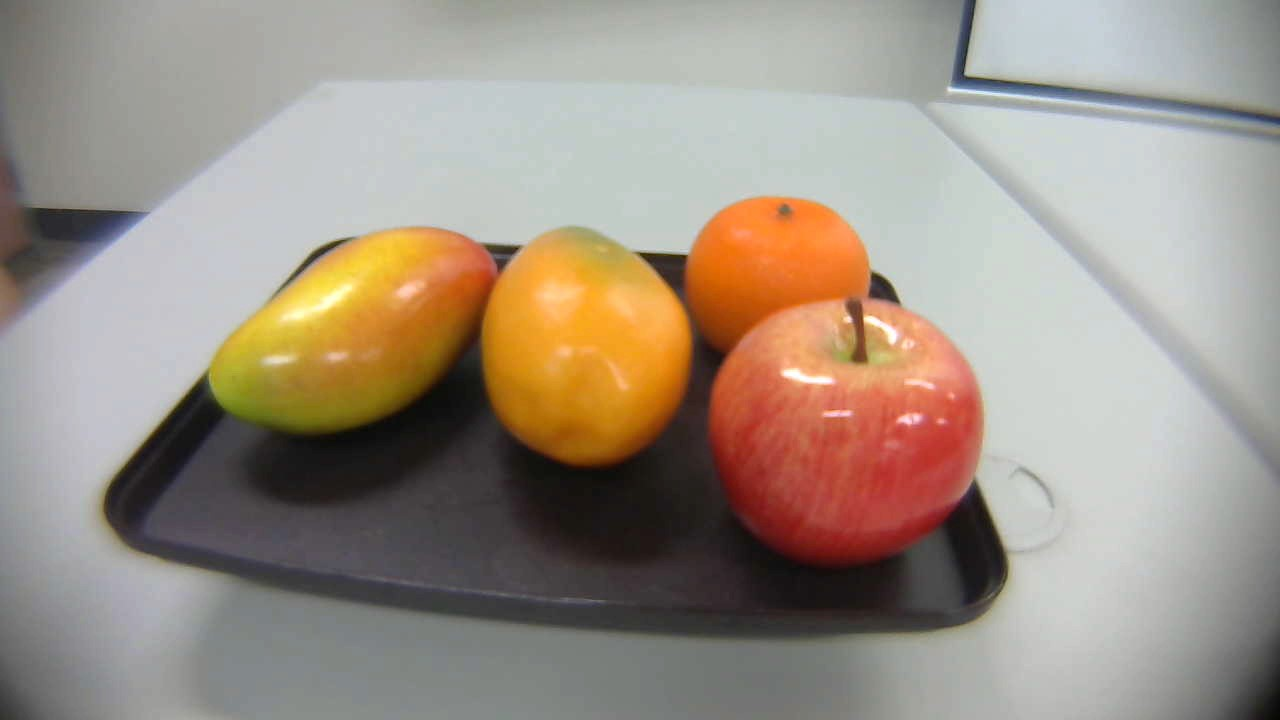orange: (675, 184, 880, 371)
papya: (482, 224, 697, 474)
red apple: (703, 301, 983, 564)
red mango: (203, 221, 500, 448)
